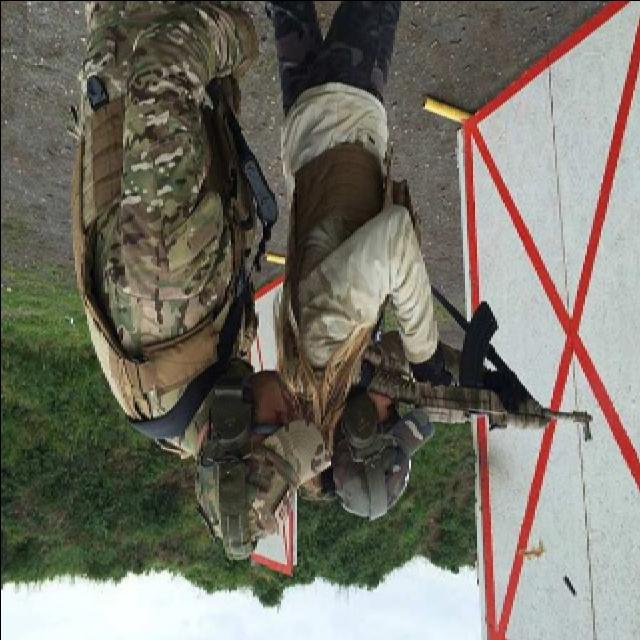rifle: (347, 303, 597, 450)
